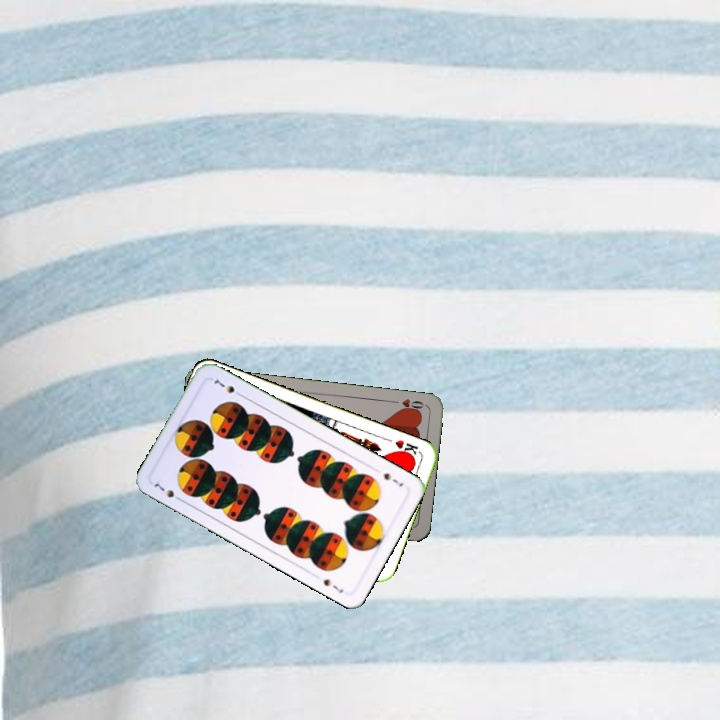HK: (391, 436, 421, 461)
HO: (387, 395, 428, 415)
S7: (150, 477, 185, 504), (380, 469, 406, 489)
